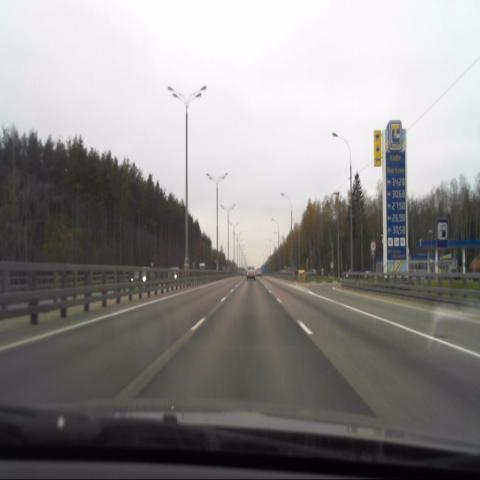7_3: (436, 219, 449, 249)
